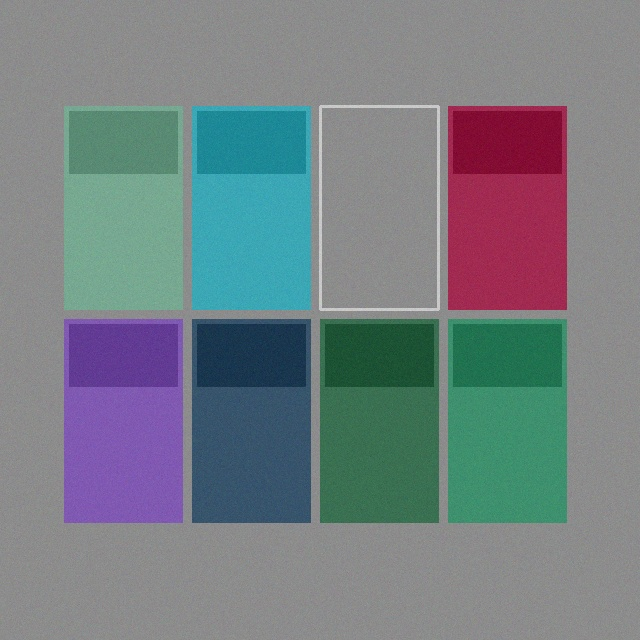space-empty: (320, 106, 438, 309)
space-occupied: (64, 106, 182, 309), (192, 106, 310, 309), (448, 106, 566, 309), (64, 319, 182, 522), (192, 319, 310, 522), (320, 319, 438, 522), (448, 319, 566, 522)
